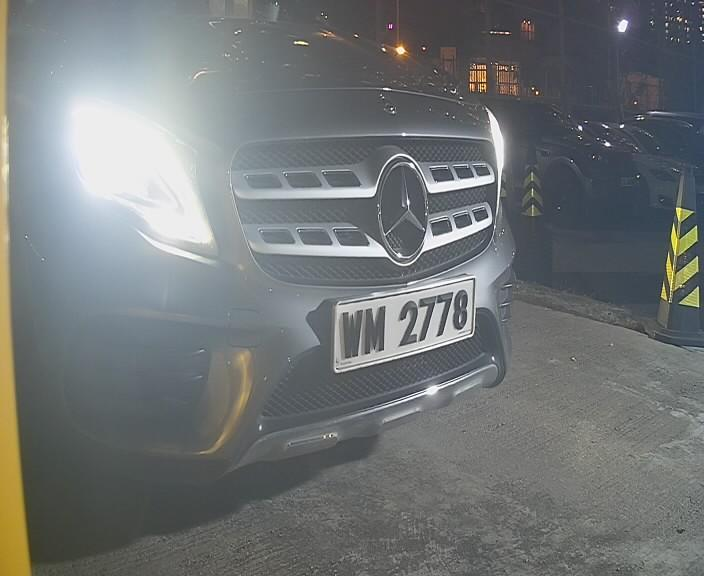privatecar: (13, 1, 525, 507)
